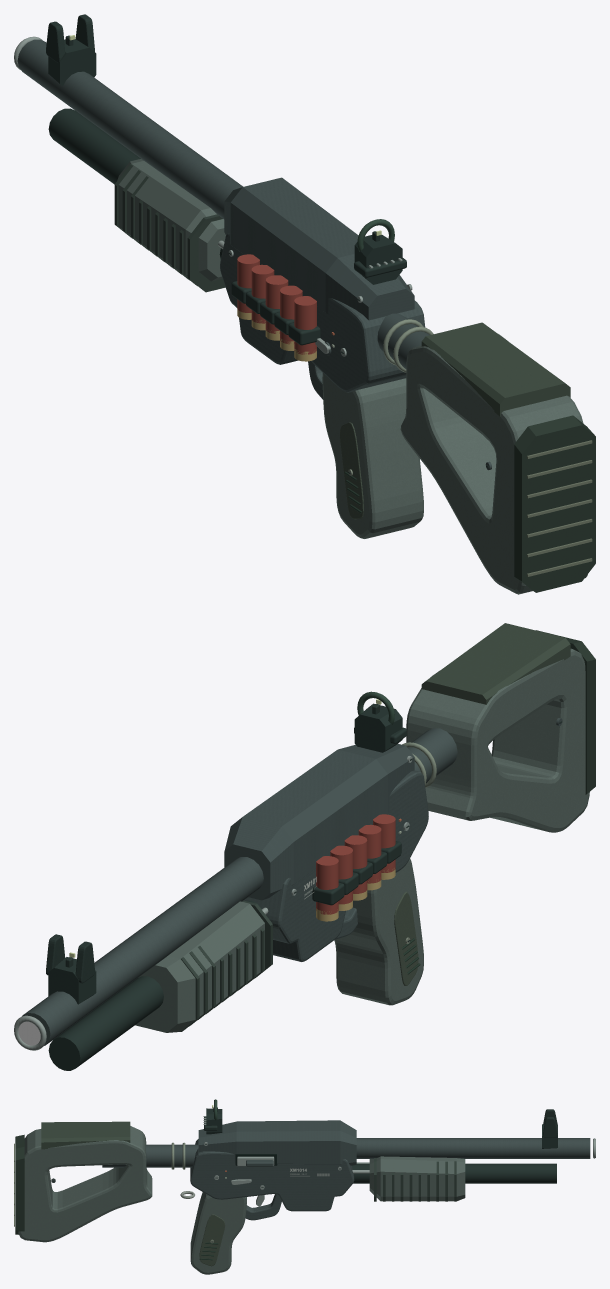
3 renders of one model, top to bottom at view 1: azimuth 30°, elevation 25°; view 2: azimuth 150°, elevation 25°; view 3: azimuth 270°, elevation 25°, orthographic. The views are drawn at different scales.
Visible parts, largest first — view 1: xm1014, pump; view 2: xm1014, pump; view 3: xm1014, pump, bolt.
Part boxes in pixels (x1,y1,x2,y2): xm1014: [14, 14, 595, 594]; pump: [114, 159, 225, 292]; xm1014: [14, 623, 595, 1070]; pump: [135, 900, 272, 1032]; xm1014: [14, 1099, 595, 1274]; pump: [369, 1156, 465, 1201]; bolt: [237, 1156, 274, 1166].
Bounding box in the file's own units: 0.17 × 0.4996 × 1.57.
Materials: 25 (17 with a texture image).
